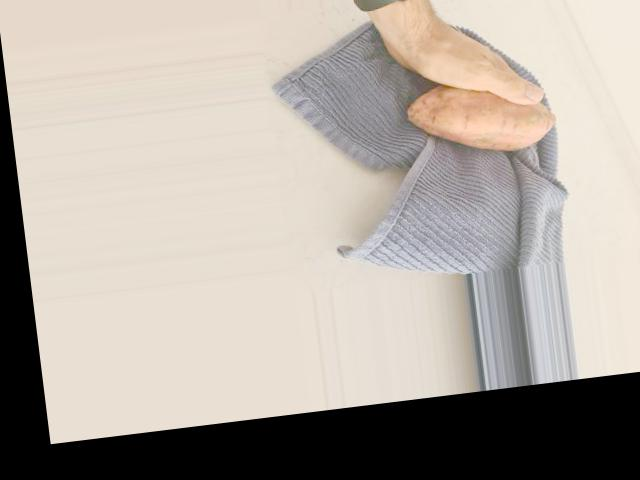sweet_potato: (404, 67, 563, 164)
